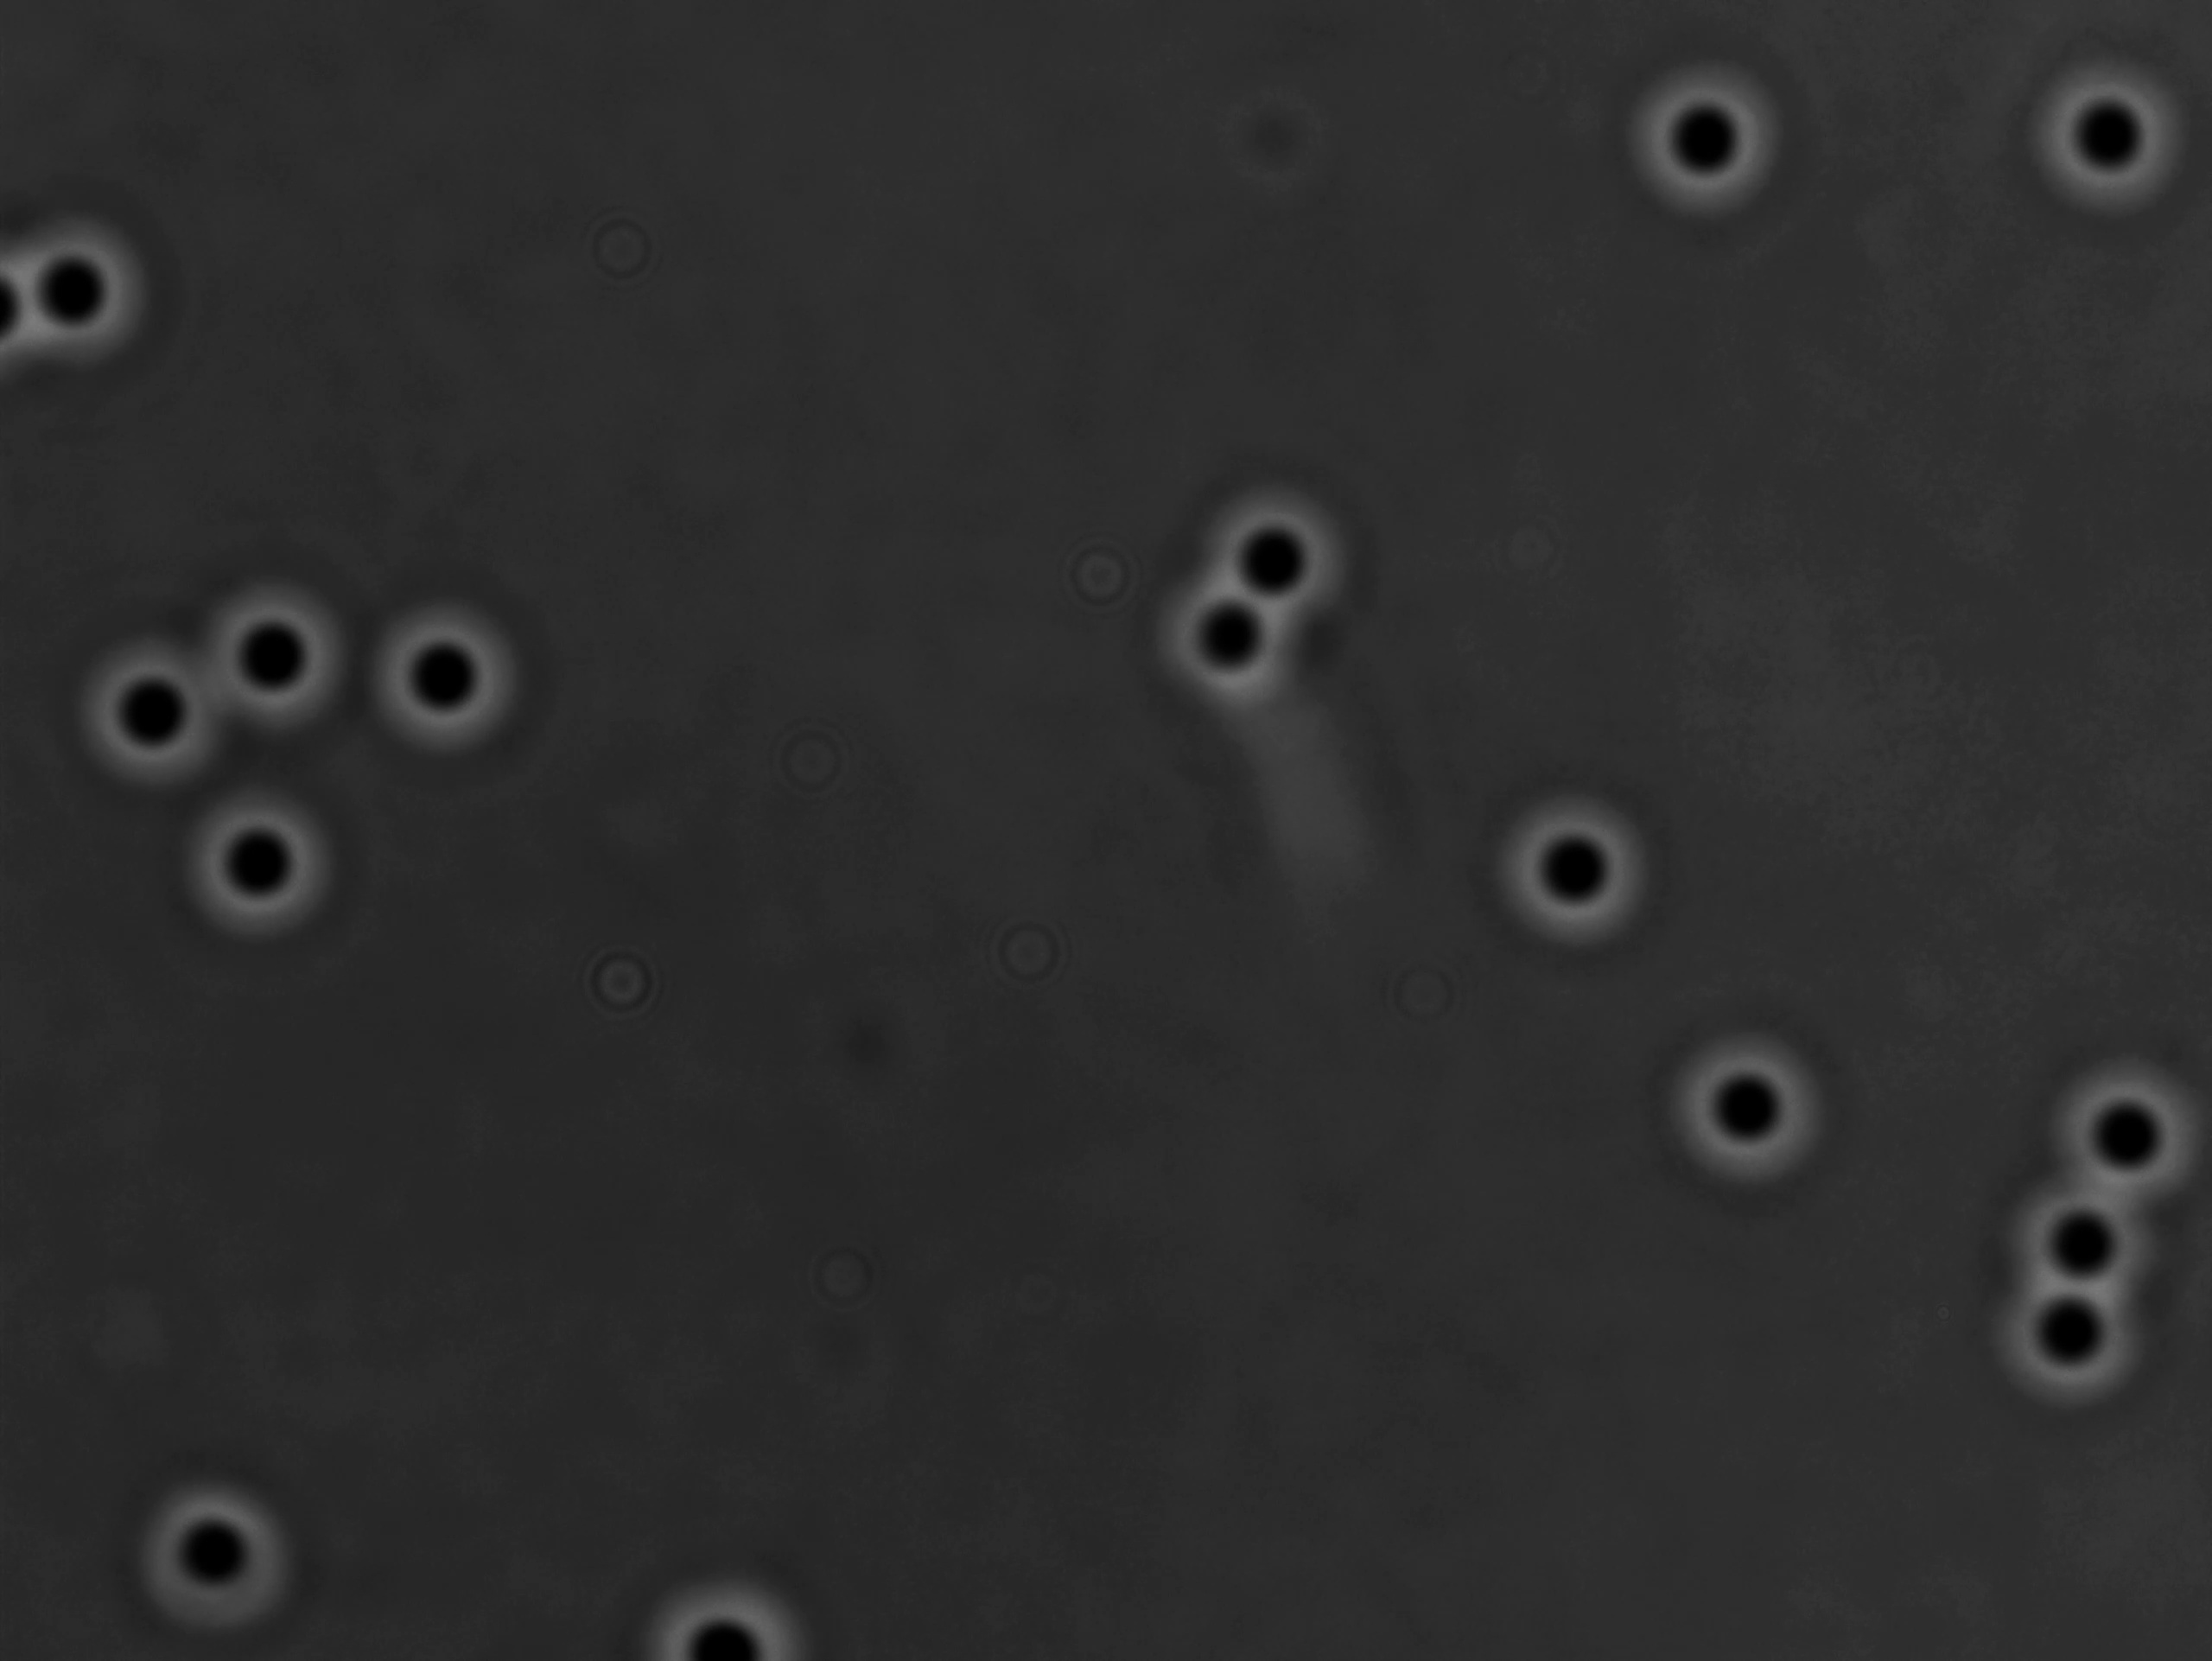depth:-80: (2011, 45, 2210, 239), (1476, 773, 1678, 960), (2022, 1036, 2212, 1230), (1978, 1251, 2181, 1429), (1610, 47, 1797, 237), (1652, 1019, 1832, 1214), (187, 567, 377, 750), (164, 780, 356, 958), (354, 579, 536, 766), (66, 632, 248, 817), (1989, 1139, 2184, 1309), (1153, 557, 1340, 728), (1190, 466, 1366, 646), (632, 1574, 818, 1661)
